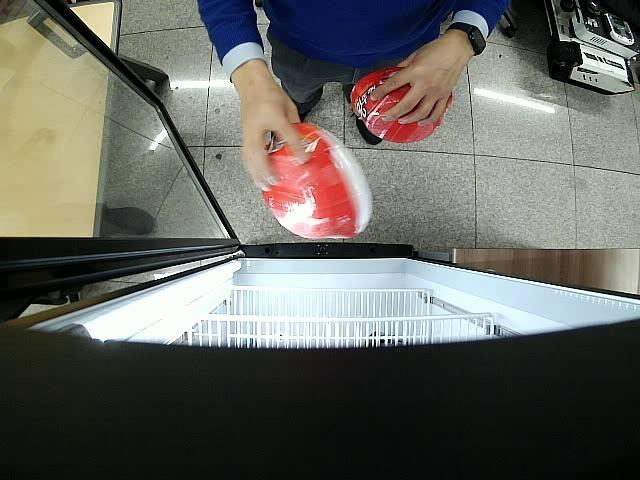10_wangTtukkeong: (262, 122, 372, 240), (351, 68, 452, 143)
